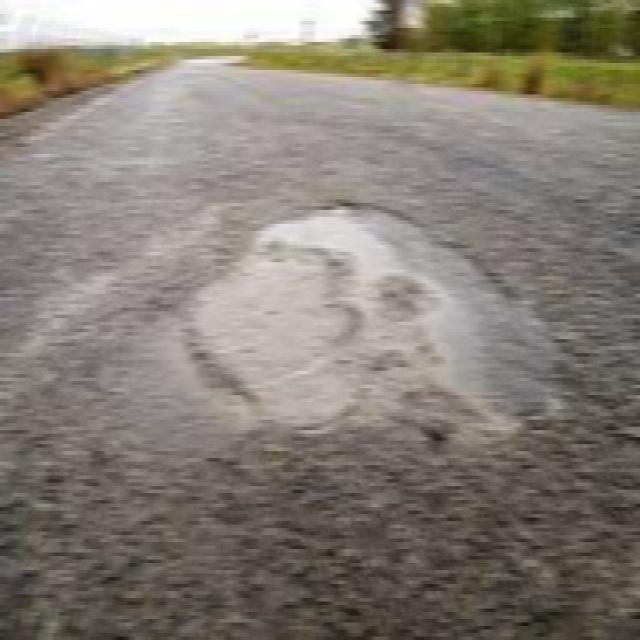Pothole: (179, 183, 553, 456)
